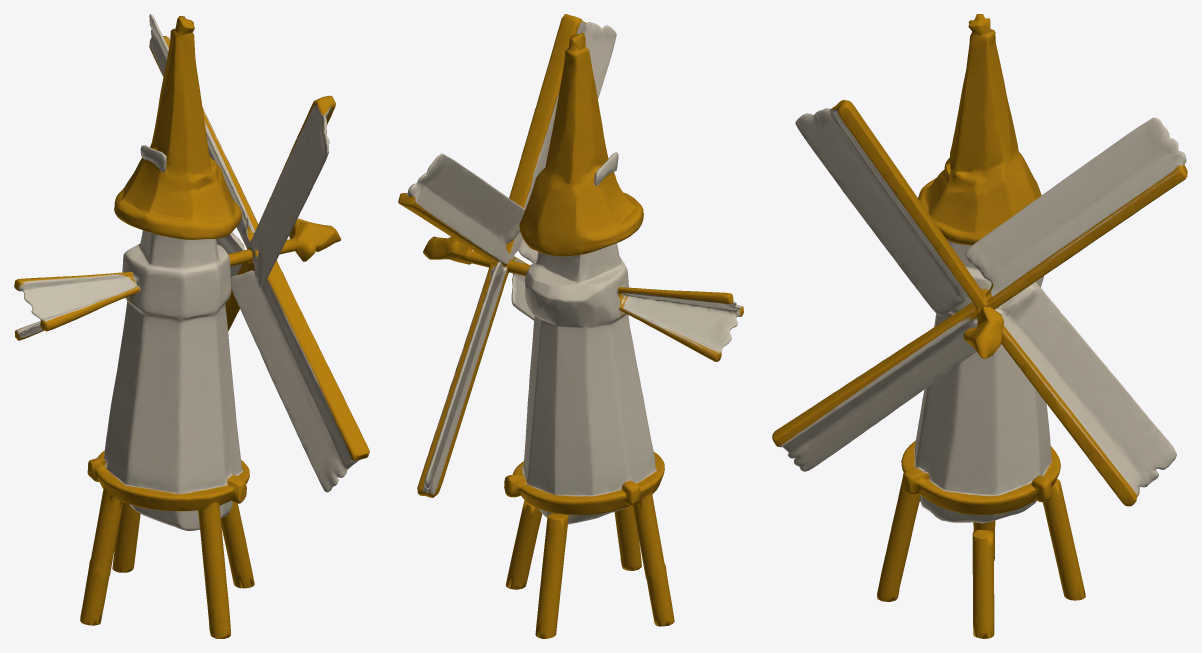
File: windmill.fbx
3 renders of one model, left to right at view 1: azimuth 30°, elevation 25°; view 2: azimuth 150°, elevation 25°; view 3: azimuth 270°, elevation 25°, orthographic. The views are drawn at different scales.
Parts seen in each view (by area): view 1: tripo_node_eda372b6-8191-4b93-9606-e6462ce9b278, windmill_blade; view 2: tripo_node_eda372b6-8191-4b93-9606-e6462ce9b278, windmill_blade; view 3: windmill_blade, tripo_node_eda372b6-8191-4b93-9606-e6462ce9b278.
Boxes of the visible parts, x1,y1,x2,y2 form: tripo_node_eda372b6-8191-4b93-9606-e6462ce9b278: (14, 16, 254, 638); windmill_blade: (149, 14, 369, 492); tripo_node_eda372b6-8191-4b93-9606-e6462ce9b278: (504, 32, 743, 638); windmill_blade: (398, 14, 616, 497); windmill_blade: (772, 100, 1187, 506); tripo_node_eda372b6-8191-4b93-9606-e6462ce9b278: (877, 14, 1085, 638).
Size of the model in its own units: 56.52 by 98.4 by 62.77.
1 material, 1 textured.
